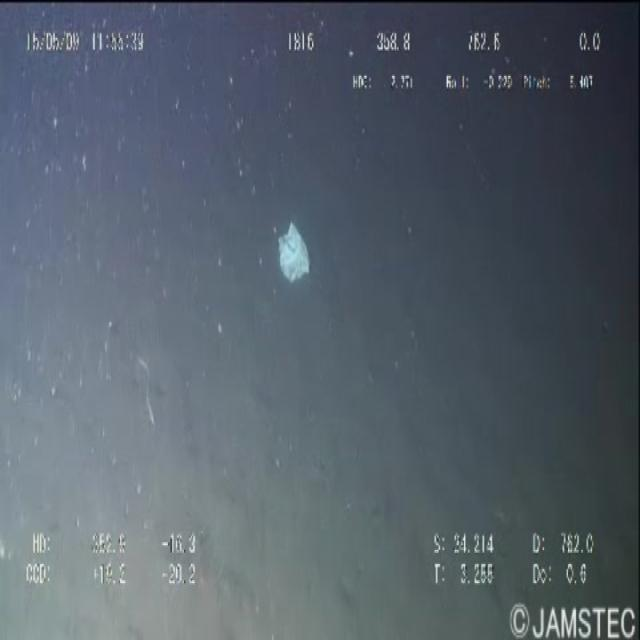Plastic: (273, 216, 315, 293)
